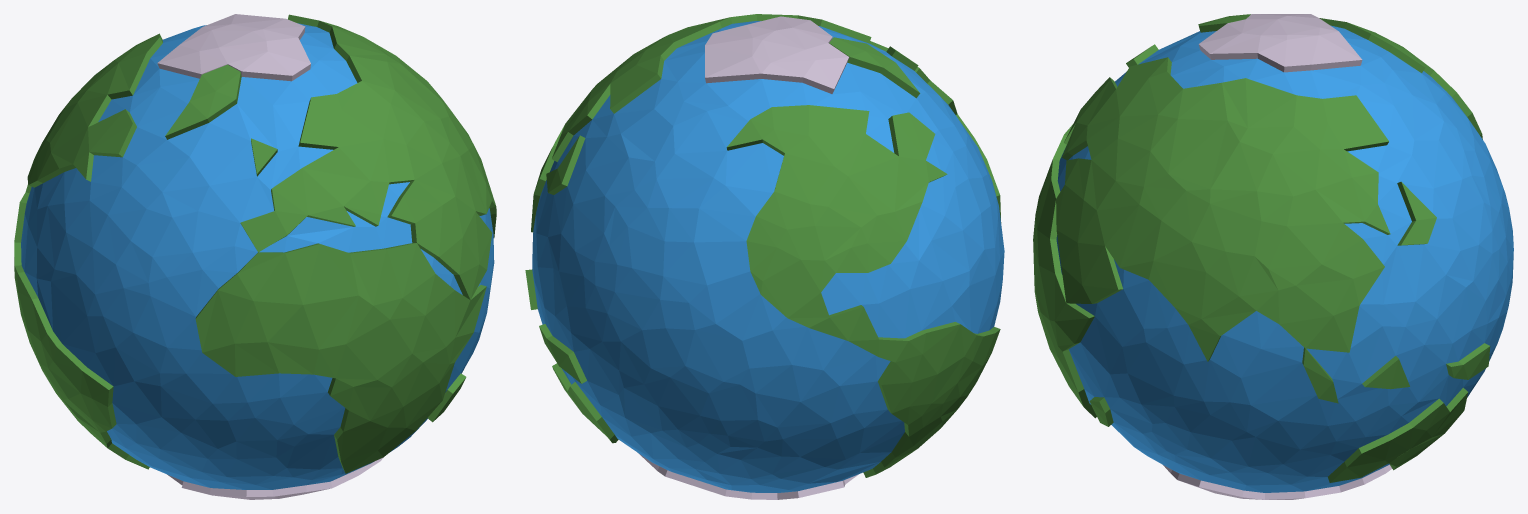
File: earth.glb
3 views of the same model, side by side, from view 1: azimuth 30°, elevation 25°; view 2: azimuth 150°, elevation 25°; view 3: azimuth 270°, elevation 25° (orthographic).
Visible parts, largest first — view 1: oceans, africa+eurasia, america, artic, groenland, antartic, UK; view 2: oceans, america, artic, africa+eurasia, groenland, antartic, australia, new zealand, japan; view 3: oceans, africa+eurasia, artic, australia, antartic, america, japan, new zealand, philipines.
Part boxes in pixels (x1=…): oceans: x1=21, y1=23, x2=494, y2=489; africa+eurasia: x1=195, y1=14, x2=496, y2=473; america: x1=14, y1=33, x2=162, y2=469; artic: x1=157, y1=14, x2=310, y2=81; groenland: x1=165, y1=64, x2=241, y2=139; antartic: x1=167, y1=457, x2=383, y2=499; UK: x1=251, y1=138, x2=277, y2=176; oceans: x1=532, y1=21, x2=1004, y2=492; america: x1=726, y1=105, x2=1000, y2=477; artic: x1=705, y1=16, x2=848, y2=93; africa+eurasia: x1=531, y1=14, x2=1001, y2=232; groenland: x1=829, y1=37, x2=920, y2=98; antartic: x1=638, y1=453, x2=858, y2=499; australia: x1=552, y1=363, x2=618, y2=443; new zealand: x1=539, y1=324, x2=586, y2=383; japan: x1=546, y1=135, x2=585, y2=194; oceans: x1=1056, y1=25, x2=1513, y2=492; africa+eurasia: x1=1033, y1=57, x2=1390, y2=418; artic: x1=1198, y1=14, x2=1362, y2=72; australia: x1=1328, y1=387, x2=1468, y2=482; antartic: x1=1163, y1=464, x2=1392, y2=499; america: x1=1319, y1=18, x2=1482, y2=139; japan: x1=1397, y1=181, x2=1436, y2=245; new zealand: x1=1446, y1=343, x2=1490, y2=379; philipines: x1=1362, y1=356, x2=1409, y2=389.
Size of the model in its own units: 2.05 by 2.06 by 2.02.
